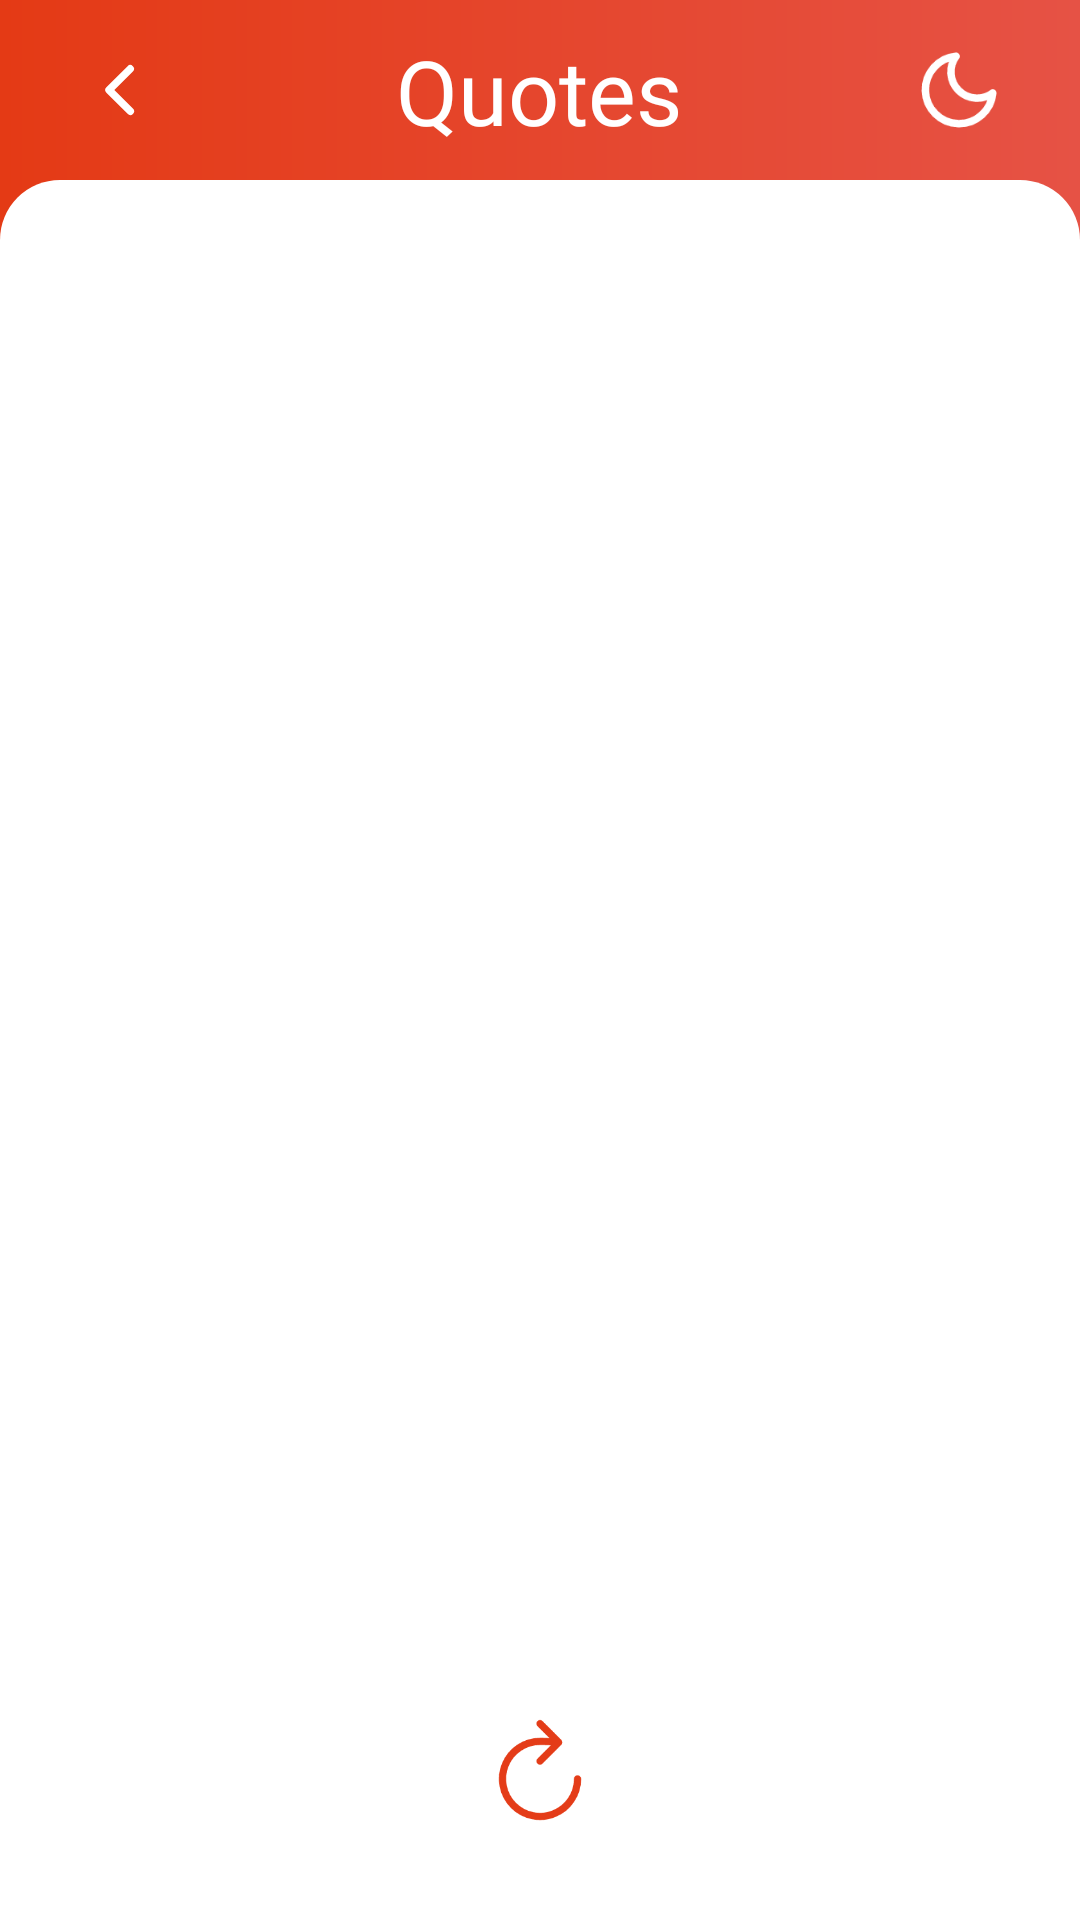

Named icons in this screenshot (1080w x 1920h) and their centers, (x=x, y=y):
chevron left: (x=120, y=90)
moon: (x=959, y=90)
quotes refresh: (x=540, y=1770)
